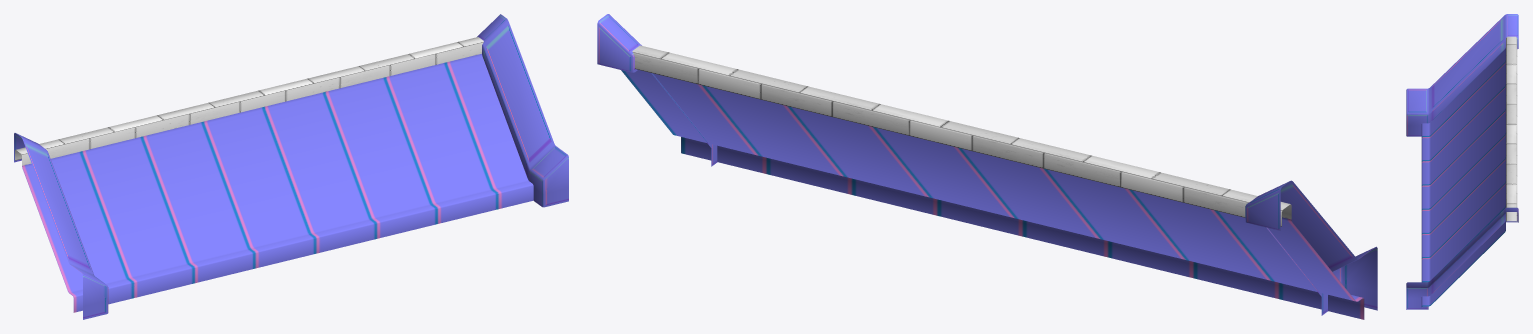
The model's file is SM_Roof_03.fbx.
The picture shows the model from 3 angles, left to right: view 1: azimuth 30°, elevation 25°; view 2: azimuth 150°, elevation 25°; view 3: azimuth 270°, elevation 25°; orthographic projection. The views are drawn at different scales.
Visible parts, largest first — view 1: SM_Roof_03; view 2: SM_Roof_03; view 3: SM_Roof_03.
Part boxes in pixels (box(x1,y1,x2,y2)): SM_Roof_03: box(14, 14, 568, 319); SM_Roof_03: box(597, 14, 1377, 319); SM_Roof_03: box(1406, 14, 1518, 309).
Bounding box in the file's own units: 640 × 157 × 173.
